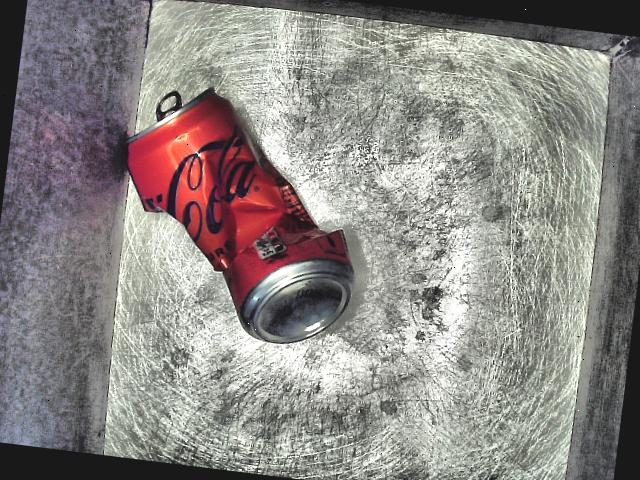Bottles: (94, 73, 408, 372)
